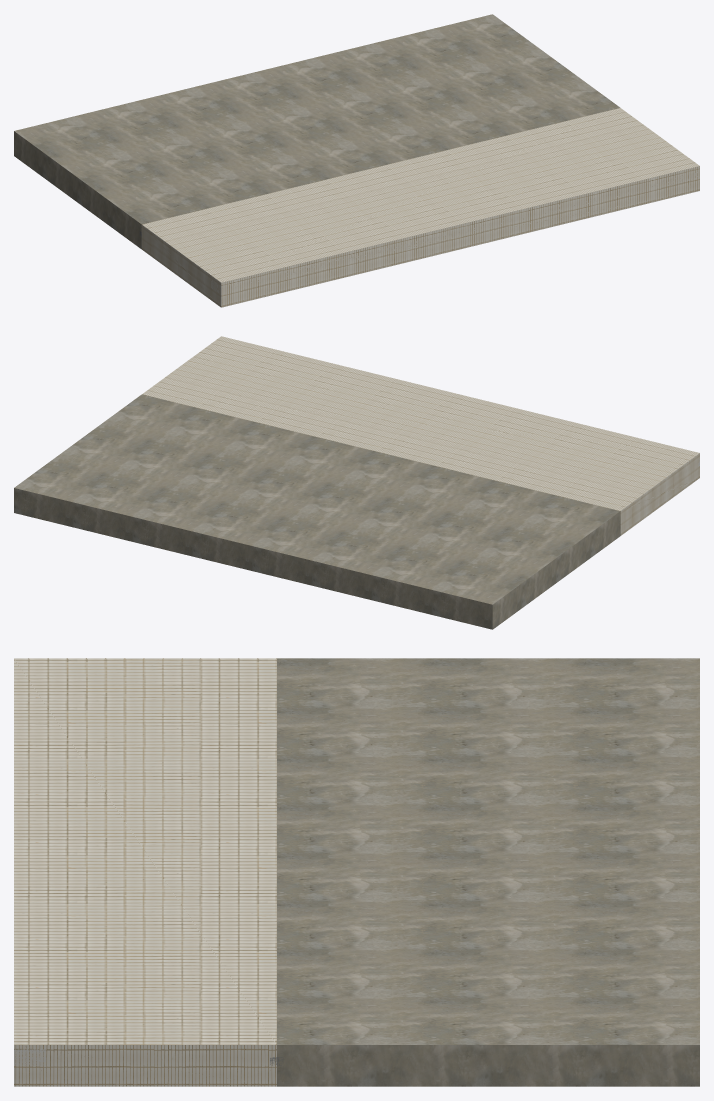
Rendered from wall.glb.
The picture shows the model from 3 angles, top to bottom: view 1: azimuth 30°, elevation 25°; view 2: azimuth 150°, elevation 25°; view 3: azimuth 270°, elevation 25°; orthographic projection. The views are drawn at different scales.
Visible parts, largest first — view 1: wall; view 2: wall; view 3: wall.
Part boxes in pixels (left/top/right/bottom): wall: left=14, top=14, right=699, bottom=307; wall: left=14, top=336, right=699, bottom=629; wall: left=14, top=658, right=699, bottom=1086.
Bounding box in the file's own units: 4 × 0.2 × 3.
4 materials, 2 textured.
